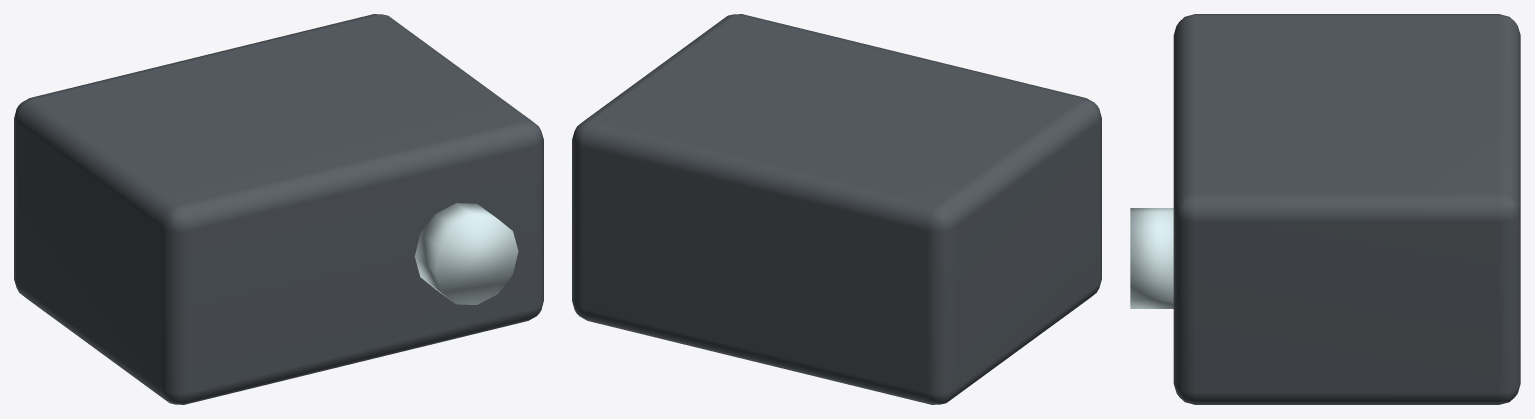
The model's file is atelier-projector.glb.
3 renders of one model, left to right at view 1: azimuth 30°, elevation 25°; view 2: azimuth 150°, elevation 25°; view 3: azimuth 270°, elevation 25°, orthographic. The views are drawn at different scales.
Parts seen in each view (by area): view 1: metal.148, glass.020; view 2: metal.148; view 3: metal.148, glass.020.
Part boxes in pixels (box(x1,y1,x2,y2)): metal.148: box(14, 14, 543, 404); glass.020: box(415, 203, 518, 304); metal.148: box(572, 14, 1101, 404); metal.148: box(1173, 14, 1520, 404); glass.020: box(1130, 208, 1173, 308).
Size of the model in its own units: 0.32 by 0.16 by 0.27.
